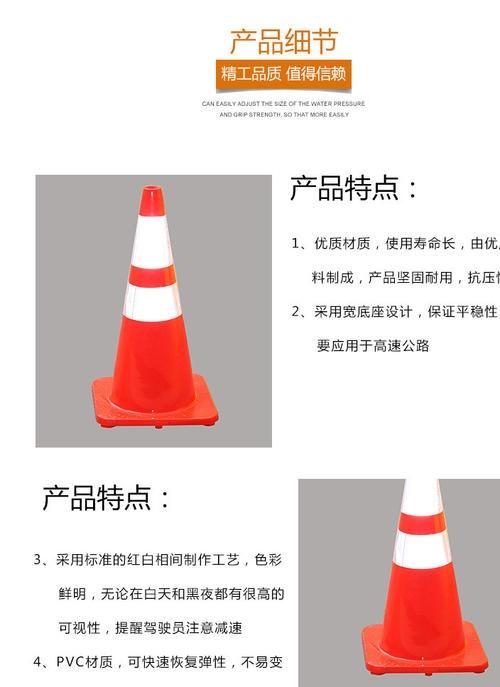cone_barrel: (93, 187, 214, 421), (362, 478, 478, 671)
